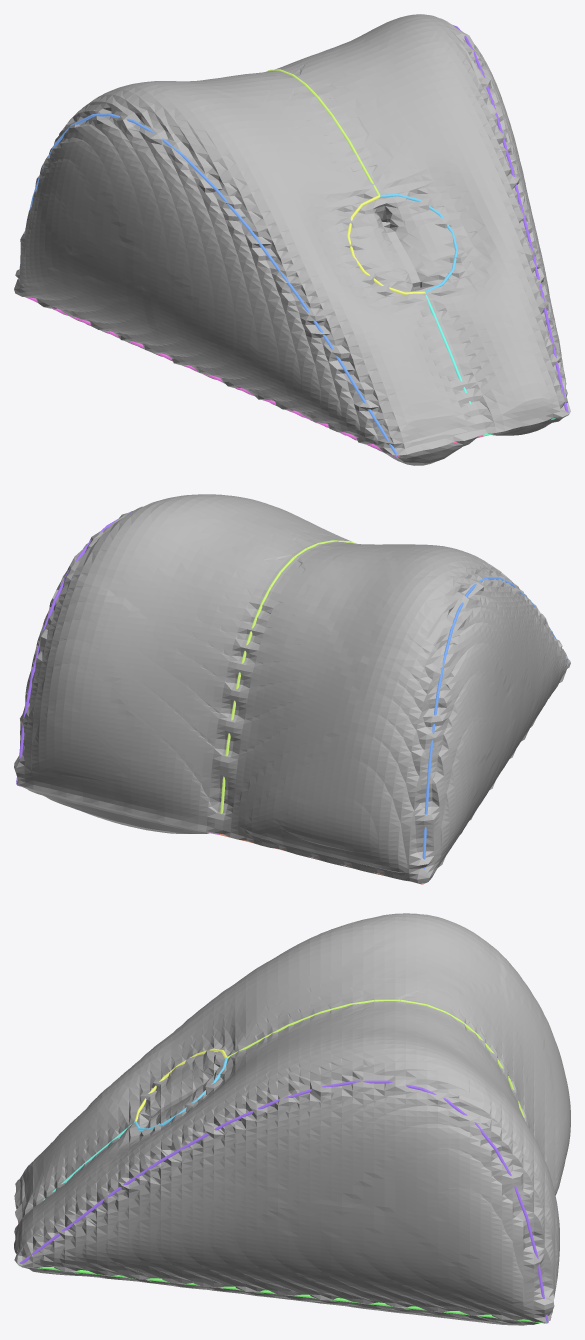
Rendered from onshape_simple_mouse.gltf.
3 renders of one model, top to bottom at view 1: azimuth 30°, elevation 25°; view 2: azimuth 150°, elevation 25°; view 3: azimuth 270°, elevation 25°, orthographic.
Bounding box in the file's own units: 0.6639 × 0.4062 × 0.7449.
